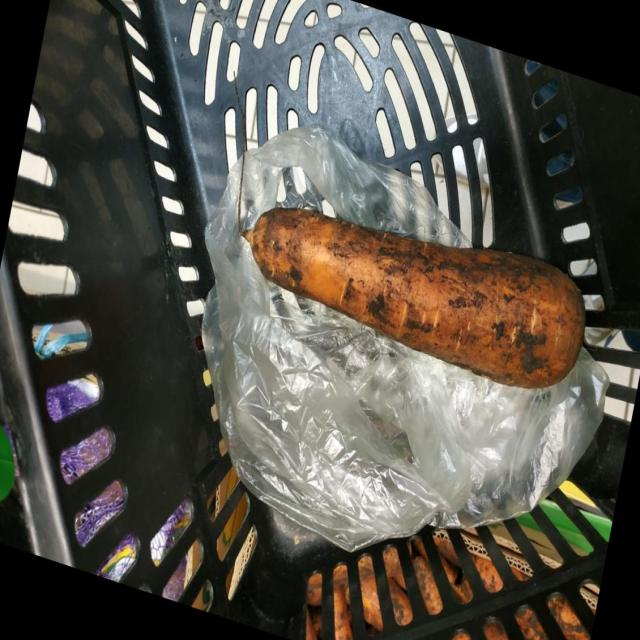Carrot: (242, 208, 585, 389)
